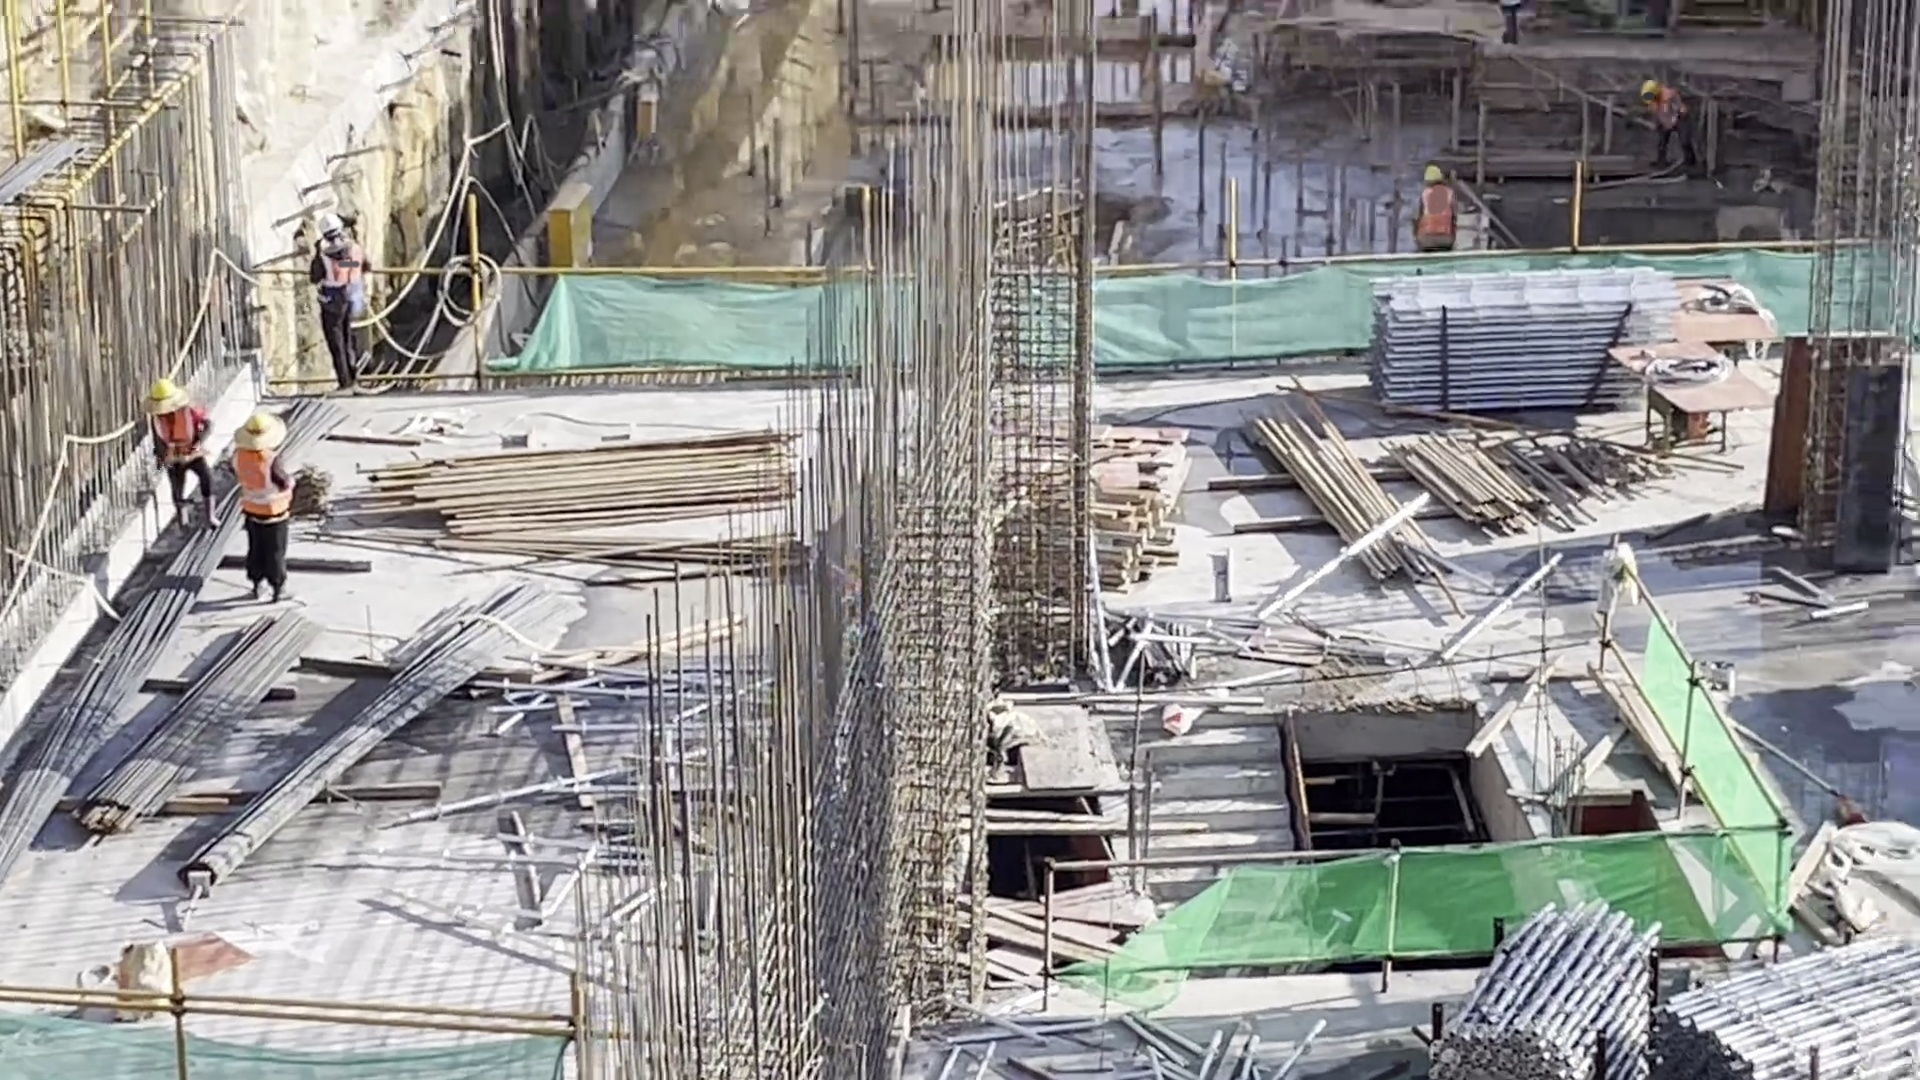cutter: (1630, 342, 1755, 446), (1663, 273, 1765, 347)
ebox: (536, 195, 600, 268)
helmet: (232, 413, 282, 450), (138, 381, 183, 413), (315, 213, 343, 236), (1419, 165, 1446, 185)
person: (226, 407, 301, 612), (144, 372, 226, 546), (310, 213, 366, 395), (1623, 78, 1712, 187), (1410, 162, 1456, 261)
rebar: (226, 604, 533, 853), (1, 540, 218, 862), (96, 632, 291, 844)
scaffold: (1412, 928, 1672, 1080), (1376, 291, 1673, 423), (1679, 939, 1920, 1080)
vest: (236, 448, 287, 523), (152, 417, 202, 470), (322, 249, 365, 309), (1417, 189, 1453, 244)
wood: (387, 429, 799, 545), (1004, 506, 1166, 598)
